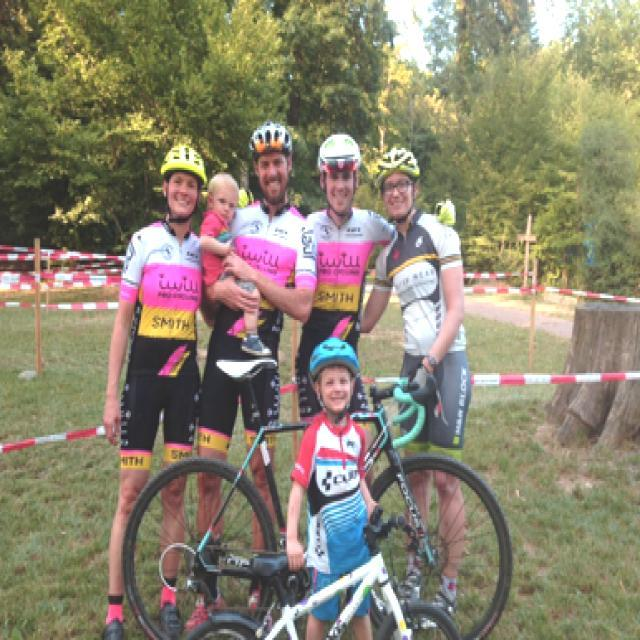Helmet: (296, 331, 372, 415), (374, 144, 426, 218)
